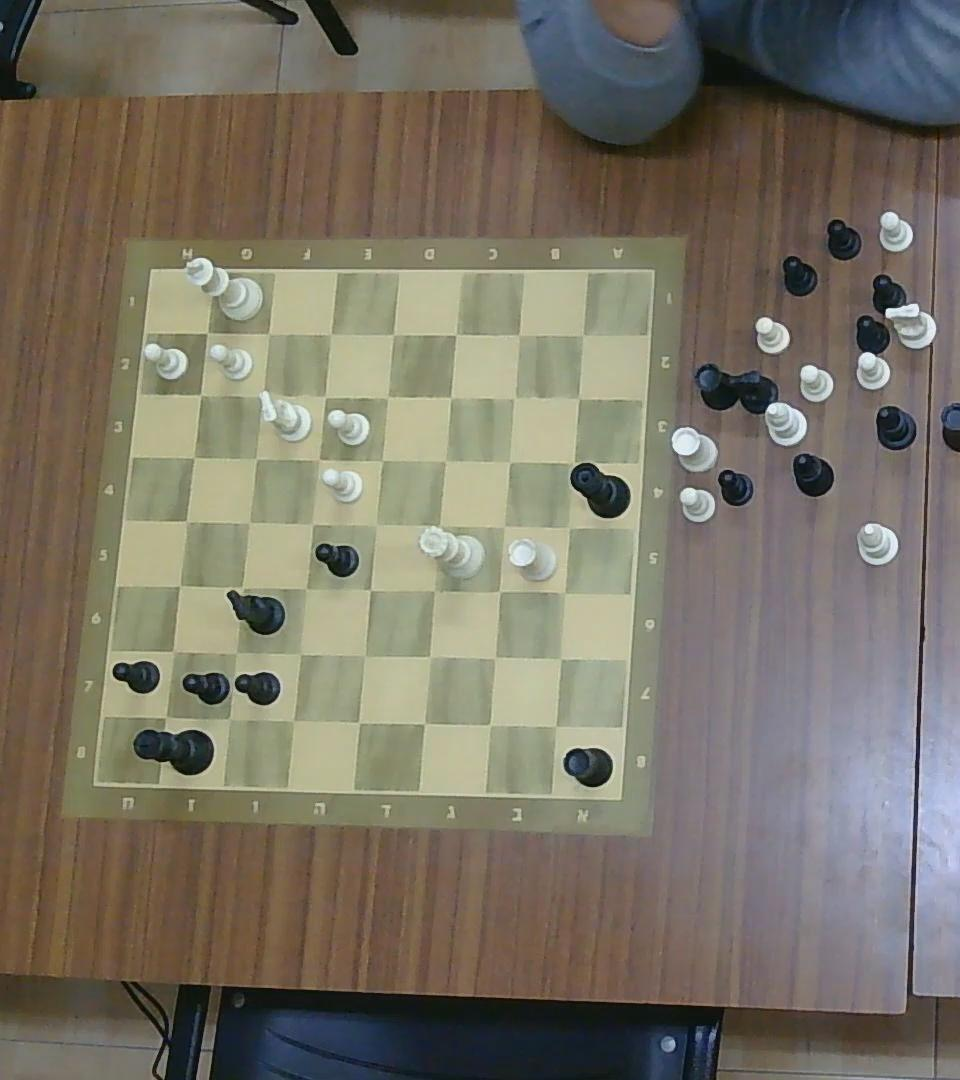xcorner: (542, 713, 569, 740), (279, 706, 305, 734), (379, 319, 404, 348), (215, 705, 241, 732), (351, 641, 377, 668), (411, 710, 437, 737), (153, 703, 179, 730), (477, 710, 503, 737), (286, 640, 311, 668), (486, 578, 511, 605), (417, 642, 442, 669), (547, 644, 572, 671), (167, 572, 192, 598), (425, 513, 450, 539), (358, 575, 382, 602), (346, 709, 371, 734), (551, 579, 576, 604), (481, 645, 506, 670), (174, 508, 198, 534), (375, 383, 399, 409), (195, 319, 219, 345), (557, 513, 581, 539), (421, 577, 445, 603), (491, 513, 515, 539), (368, 447, 392, 473), (223, 640, 247, 665), (443, 321, 467, 346), (558, 448, 582, 473), (506, 321, 530, 346), (162, 638, 185, 664), (257, 319, 280, 345), (432, 448, 455, 473), (318, 321, 341, 346), (236, 510, 259, 535), (497, 448, 520, 473), (294, 576, 317, 601), (188, 382, 211, 407), (229, 574, 252, 599), (181, 445, 204, 469), (438, 384, 461, 408), (300, 512, 323, 536), (364, 512, 387, 536), (250, 381, 273, 405), (306, 447, 329, 470), (570, 322, 593, 345), (245, 445, 267, 469), (313, 384, 335, 408), (503, 386, 524, 409), (567, 387, 588, 409)
